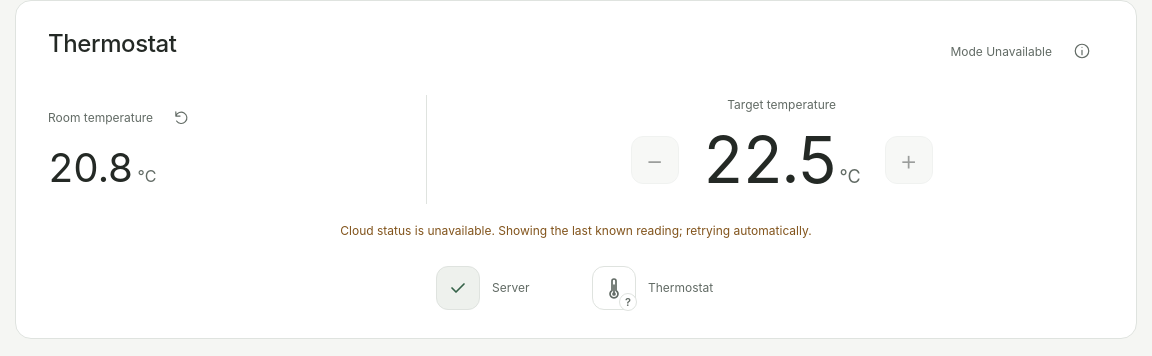
Test: keeps both icons mounted on read failure and disconnection without erasing known acceptance
The image size is (1152, 356).
Click the button named "Show details".
click(614, 288)  # box top-left (592, 266), bottom-right (636, 310)
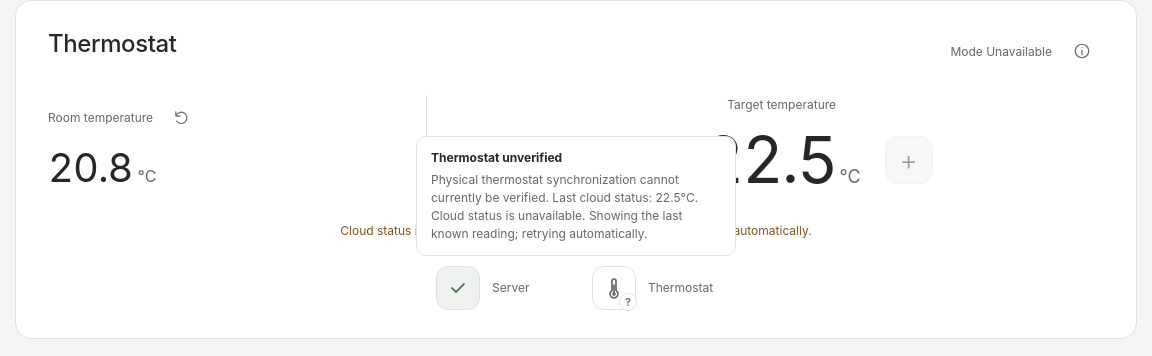
Result: the tooltip shows "cannot currently be verified" at top-left (431, 172), bottom-right (698, 241)
Result: the tooltip shows "Cloud status is unavailable" at top-left (431, 172), bottom-right (698, 241)
